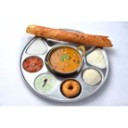dosa: (24, 22, 117, 47)
